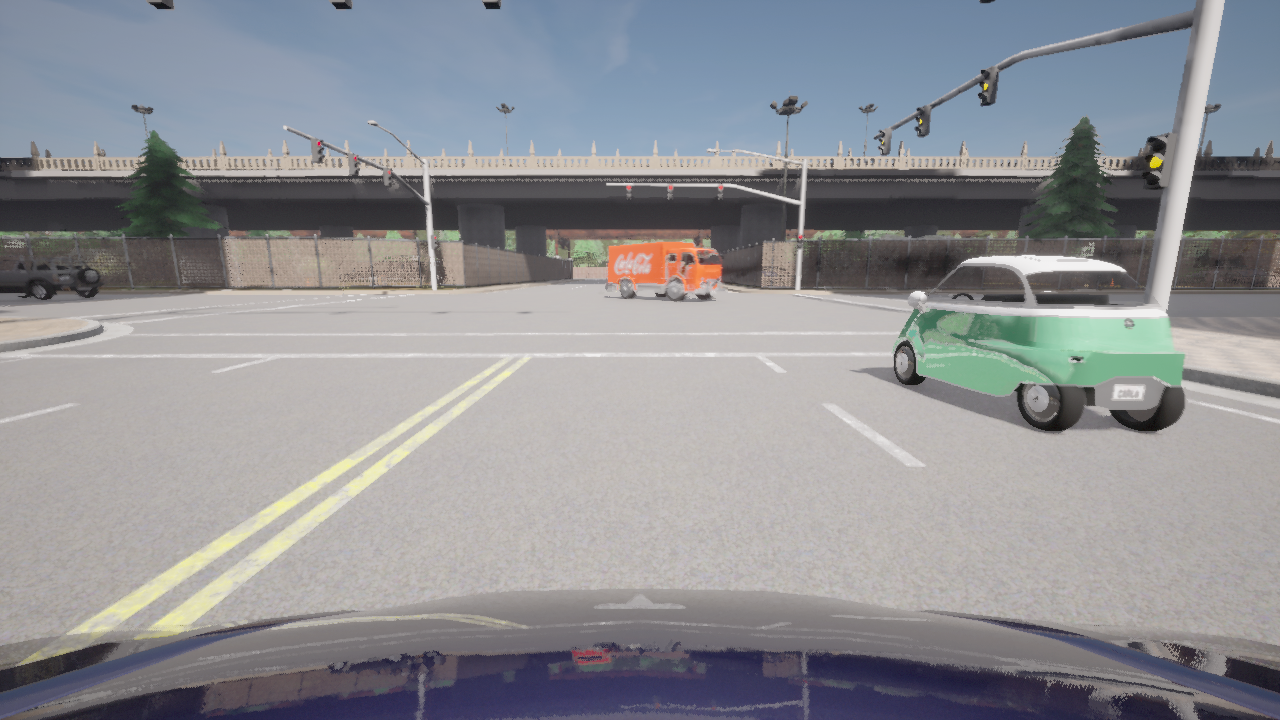cyclist: (0, 588, 1279, 719), (891, 255, 1185, 431), (606, 241, 725, 302), (0, 255, 105, 300)
